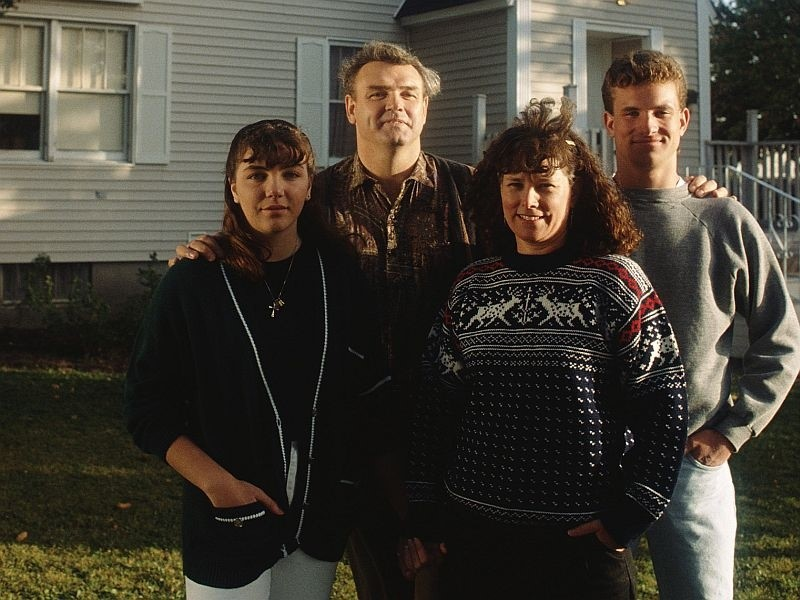face_no_mask: (491, 121, 583, 245), (603, 47, 689, 165), (228, 119, 314, 231), (342, 42, 431, 146)
